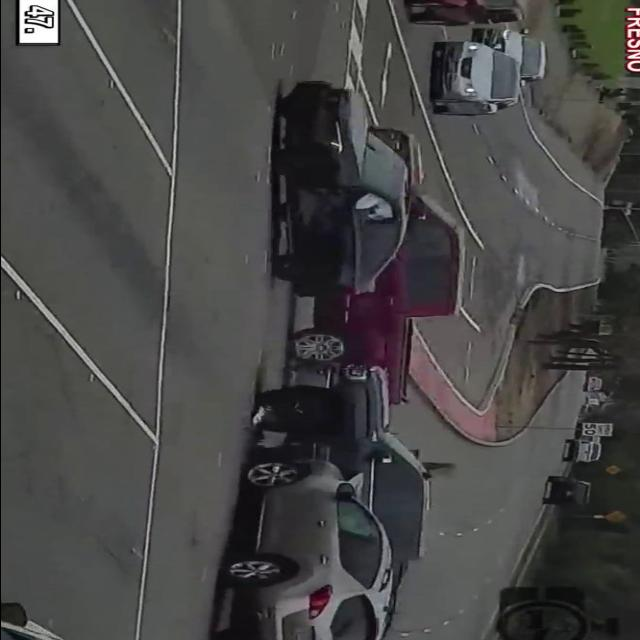accident: (200, 356, 460, 640), (237, 78, 431, 309)
